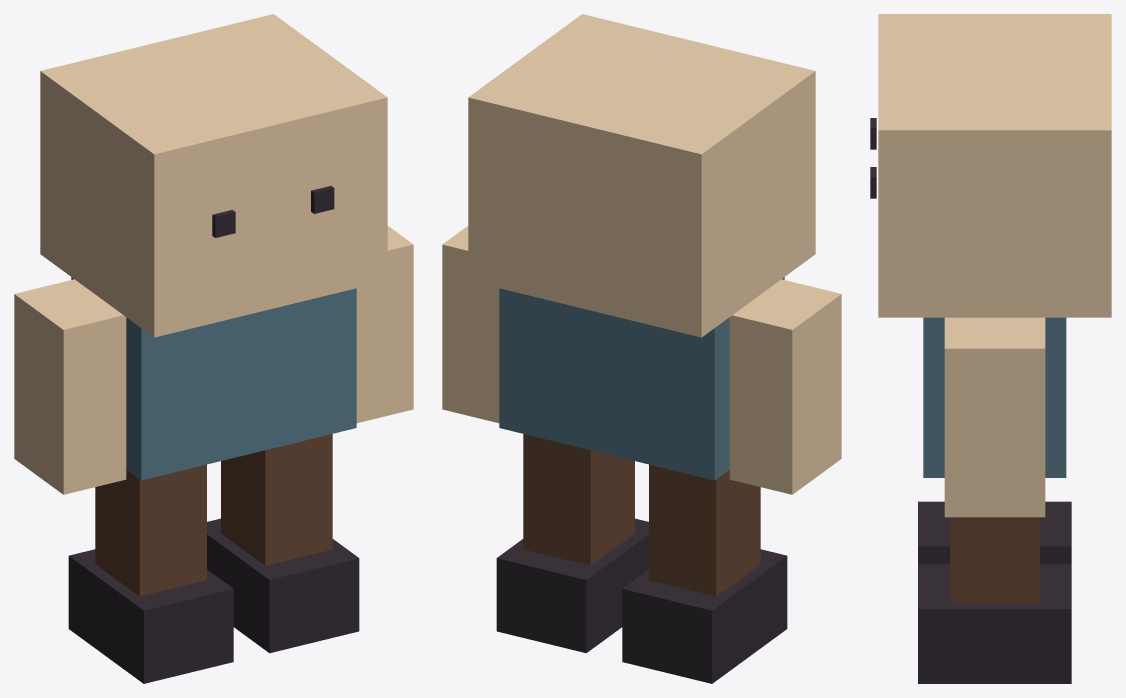
File: chr_body_child.glb
3 views of the same model, side by side, from view 1: azimuth 30°, elevation 25°; view 2: azimuth 150°, elevation 25°; view 3: azimuth 270°, elevation 25° (orthographic). The views are drawn at different scales.
Parts seen in each view (by area): view 1: chr_body_child; view 2: chr_body_child; view 3: chr_body_child.
Part boxes in pixels (x1=…): chr_body_child: x1=14, y1=14, x2=413, y2=683; chr_body_child: x1=442, y1=14, x2=841, y2=683; chr_body_child: x1=870, y1=14, x2=1111, y2=683.
Bounding box in the file's own units: 0.78 × 1.16 × 0.455.
1 material, 1 textured.
